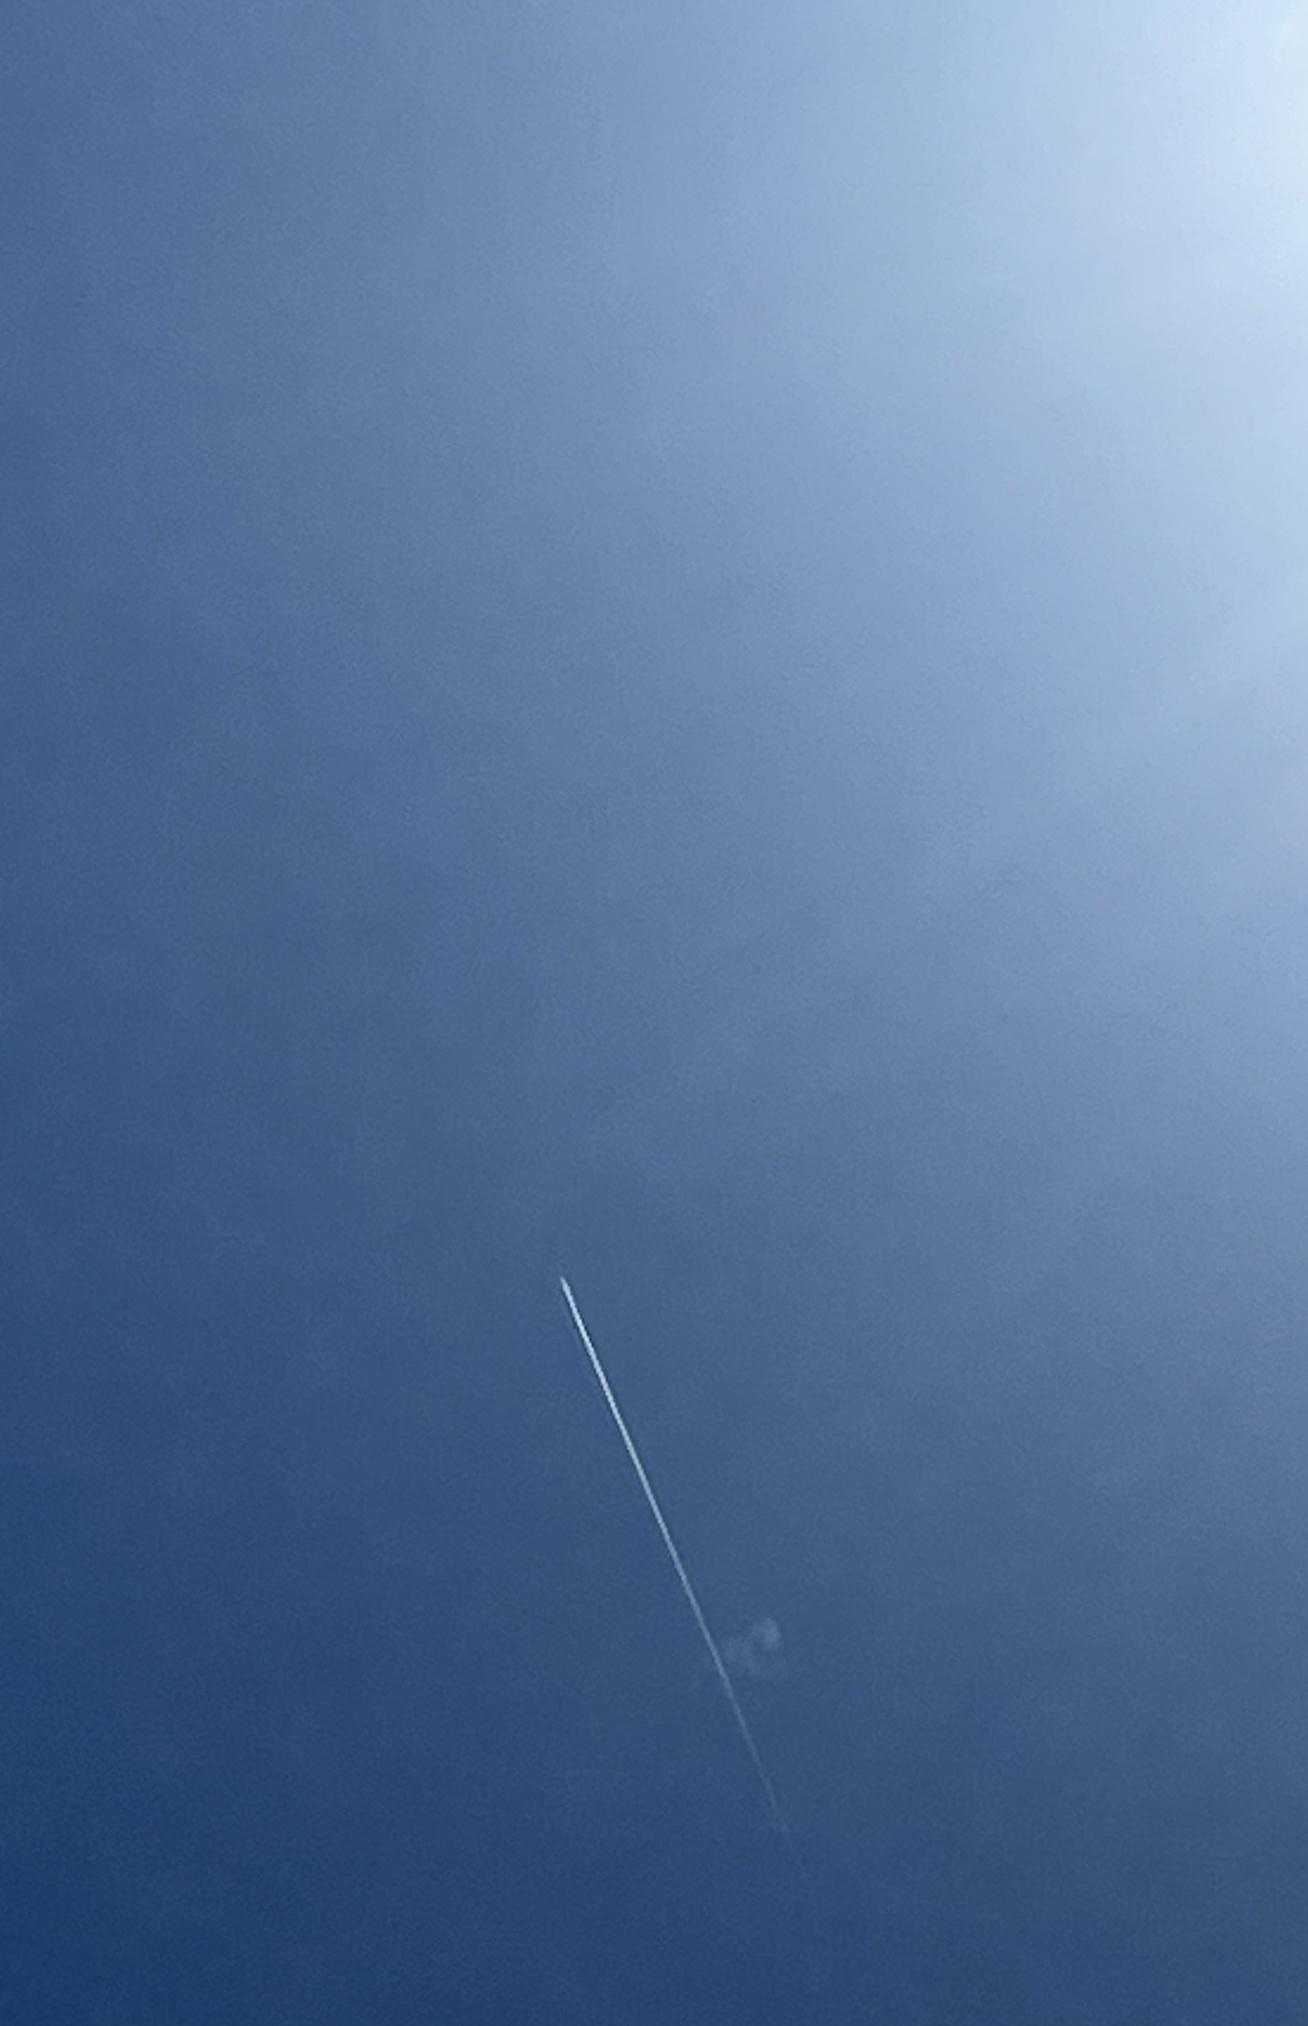Plane: (511, 1211, 651, 1397)
